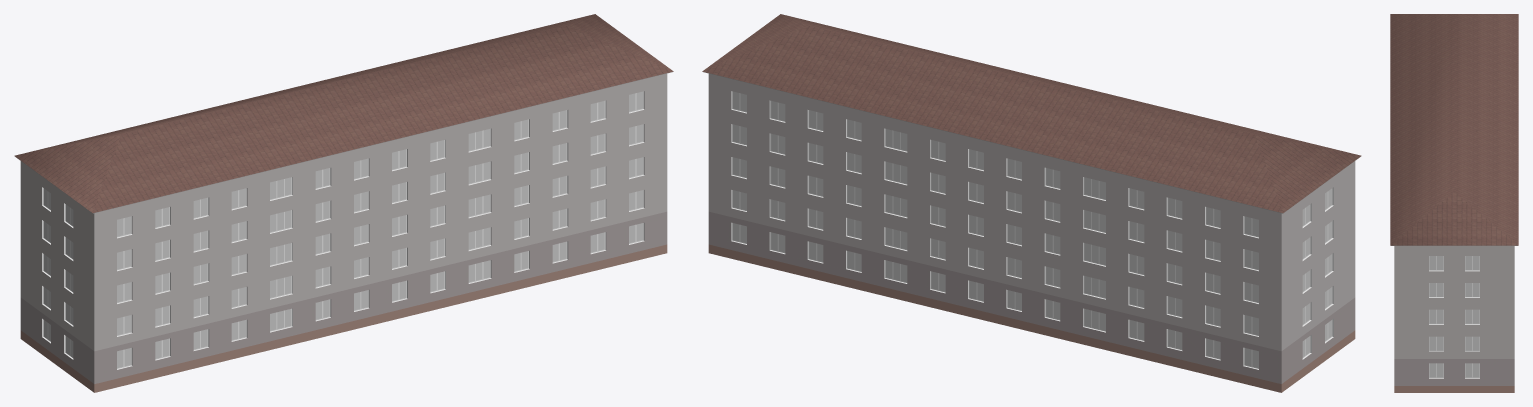
The model's file is block5a.glb.
3 renders of one model, left to right at view 1: azimuth 30°, elevation 25°; view 2: azimuth 150°, elevation 25°; view 3: azimuth 270°, elevation 25°, orthographic. The views are drawn at different scales.
Parts seen in each view (by area): view 1: Residential building_2_0, Residential building_Roof-7_0, Residential building_3_0, Residential building_6_0; view 2: Residential building_2_0, Residential building_Roof-7_0, Residential building_3_0, Residential building_6_0; view 3: Residential building_Roof-7_0, Residential building_2_0, Residential building_3_0.
Part boxes in pixels (bbox=[...]): Residential building_2_0: bbox=[20, 73, 667, 392]; Residential building_Roof-7_0: bbox=[14, 14, 673, 213]; Residential building_3_0: bbox=[44, 91, 642, 368]; Residential building_6_0: bbox=[16, 72, 672, 213]; Residential building_2_0: bbox=[708, 73, 1355, 392]; Residential building_Roof-7_0: bbox=[702, 14, 1361, 213]; Residential building_3_0: bbox=[733, 91, 1331, 368]; Residential building_6_0: bbox=[703, 72, 1359, 213]; Residential building_Roof-7_0: bbox=[1390, 14, 1518, 245]; Residential building_2_0: bbox=[1394, 246, 1514, 392]; Residential building_3_0: bbox=[1429, 256, 1479, 377].
Bounding box in the file's own units: 55.5 × 19.68 × 13.
4 materials, 3 textured.
